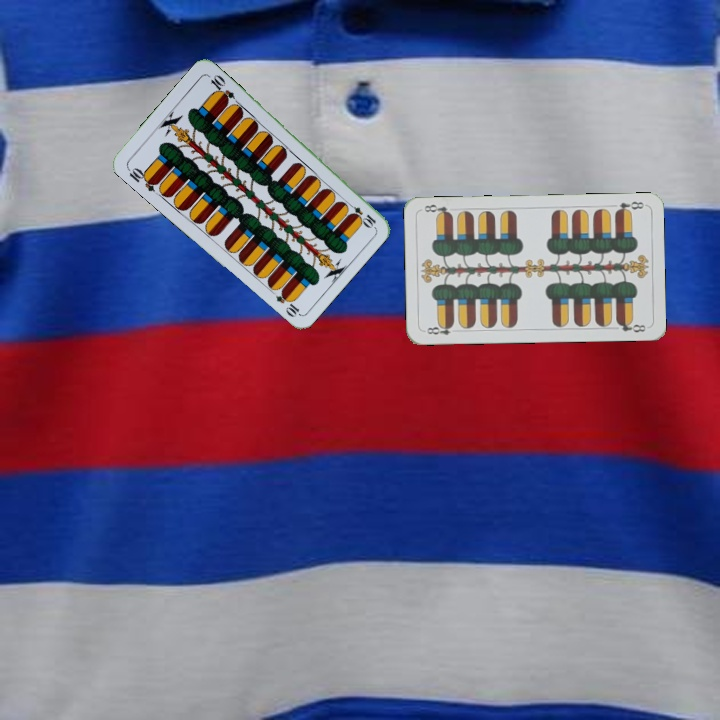E10: (123, 163, 161, 194), (342, 198, 378, 230)
E8: (421, 320, 461, 337), (611, 197, 646, 216)
